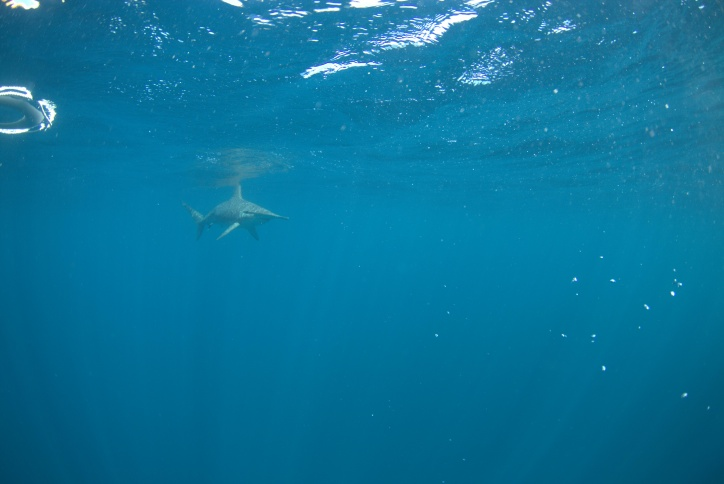Hammer: (173, 165, 298, 260)
